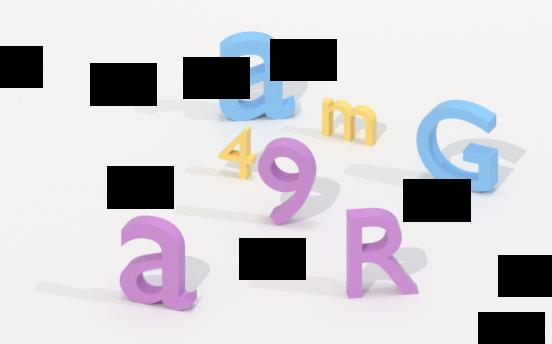4: (214, 124, 261, 182)
9: (255, 139, 320, 229)
G-hoa: (410, 97, 505, 197)
R-hoa: (342, 207, 424, 303)
a: (112, 215, 199, 312), (217, 28, 298, 125)
m: (317, 95, 381, 150)
